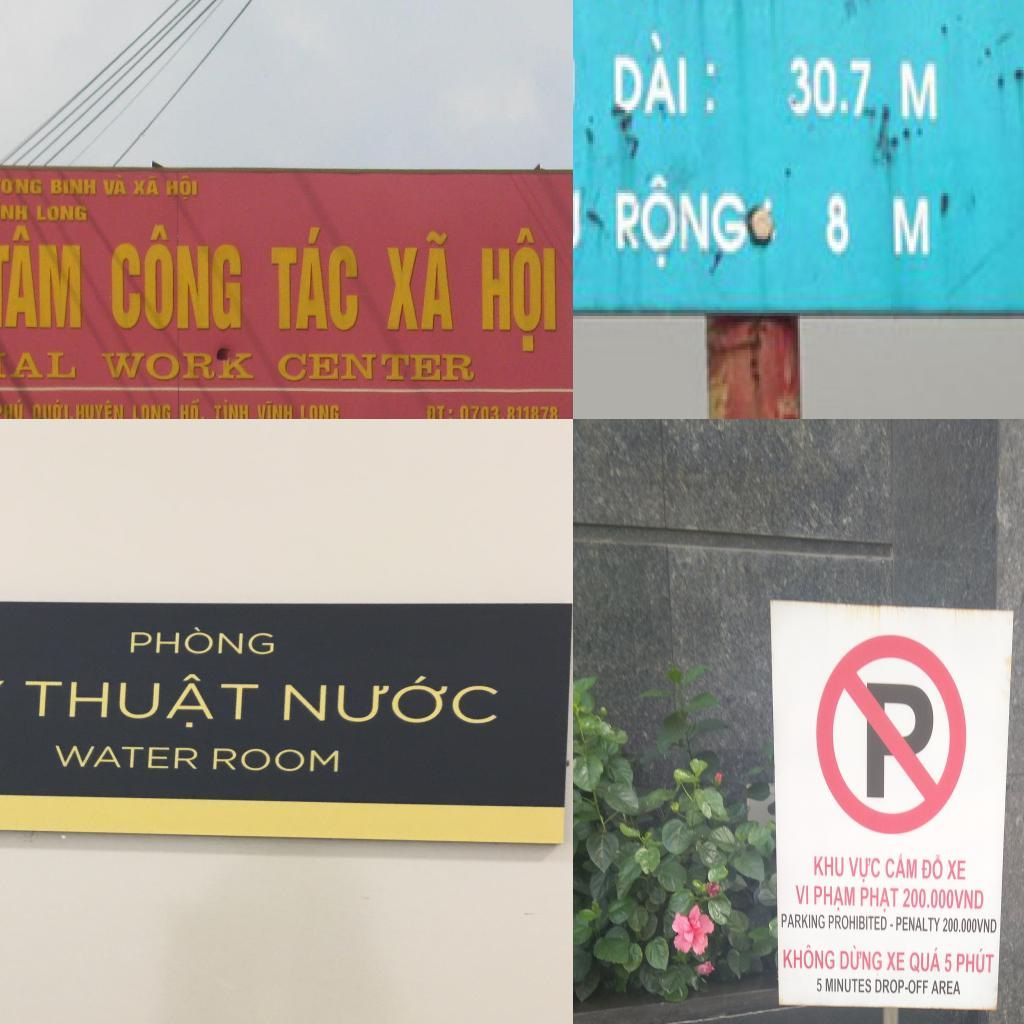text: (611, 168, 784, 282), (107, 222, 242, 330), (152, 692, 228, 872), (607, 27, 727, 125), (154, 510, 223, 677), (266, 226, 360, 338), (476, 228, 558, 356), (0, 225, 84, 332), (383, 228, 457, 335), (784, 46, 880, 128), (274, 352, 475, 382), (97, 351, 255, 383), (148, 878, 212, 952), (89, 681, 131, 792), (891, 48, 946, 132), (248, 738, 283, 848), (818, 181, 857, 270), (0, 346, 78, 383), (456, 402, 560, 419), (782, 944, 836, 972), (839, 943, 884, 972), (813, 884, 856, 912), (902, 887, 954, 910), (34, 202, 88, 224), (860, 886, 900, 915), (955, 947, 995, 975), (164, 174, 200, 204), (828, 914, 888, 931), (884, 852, 918, 881), (875, 978, 929, 996), (0, 175, 43, 197), (49, 178, 98, 197), (909, 946, 941, 975), (848, 856, 881, 883), (75, 402, 125, 419), (825, 977, 872, 995), (254, 399, 294, 419), (211, 398, 249, 419), (30, 401, 74, 419), (780, 913, 826, 930), (896, 916, 942, 933), (954, 887, 985, 912), (813, 854, 845, 878), (297, 402, 341, 419), (130, 402, 173, 419), (132, 175, 159, 200), (920, 852, 944, 880), (942, 916, 978, 934), (101, 174, 127, 198), (178, 397, 206, 419), (0, 199, 27, 221), (930, 979, 962, 996), (0, 398, 25, 419), (423, 404, 455, 419), (946, 858, 966, 881), (886, 951, 905, 972), (794, 884, 809, 906), (977, 918, 997, 934), (944, 952, 952, 974), (816, 977, 822, 993)
